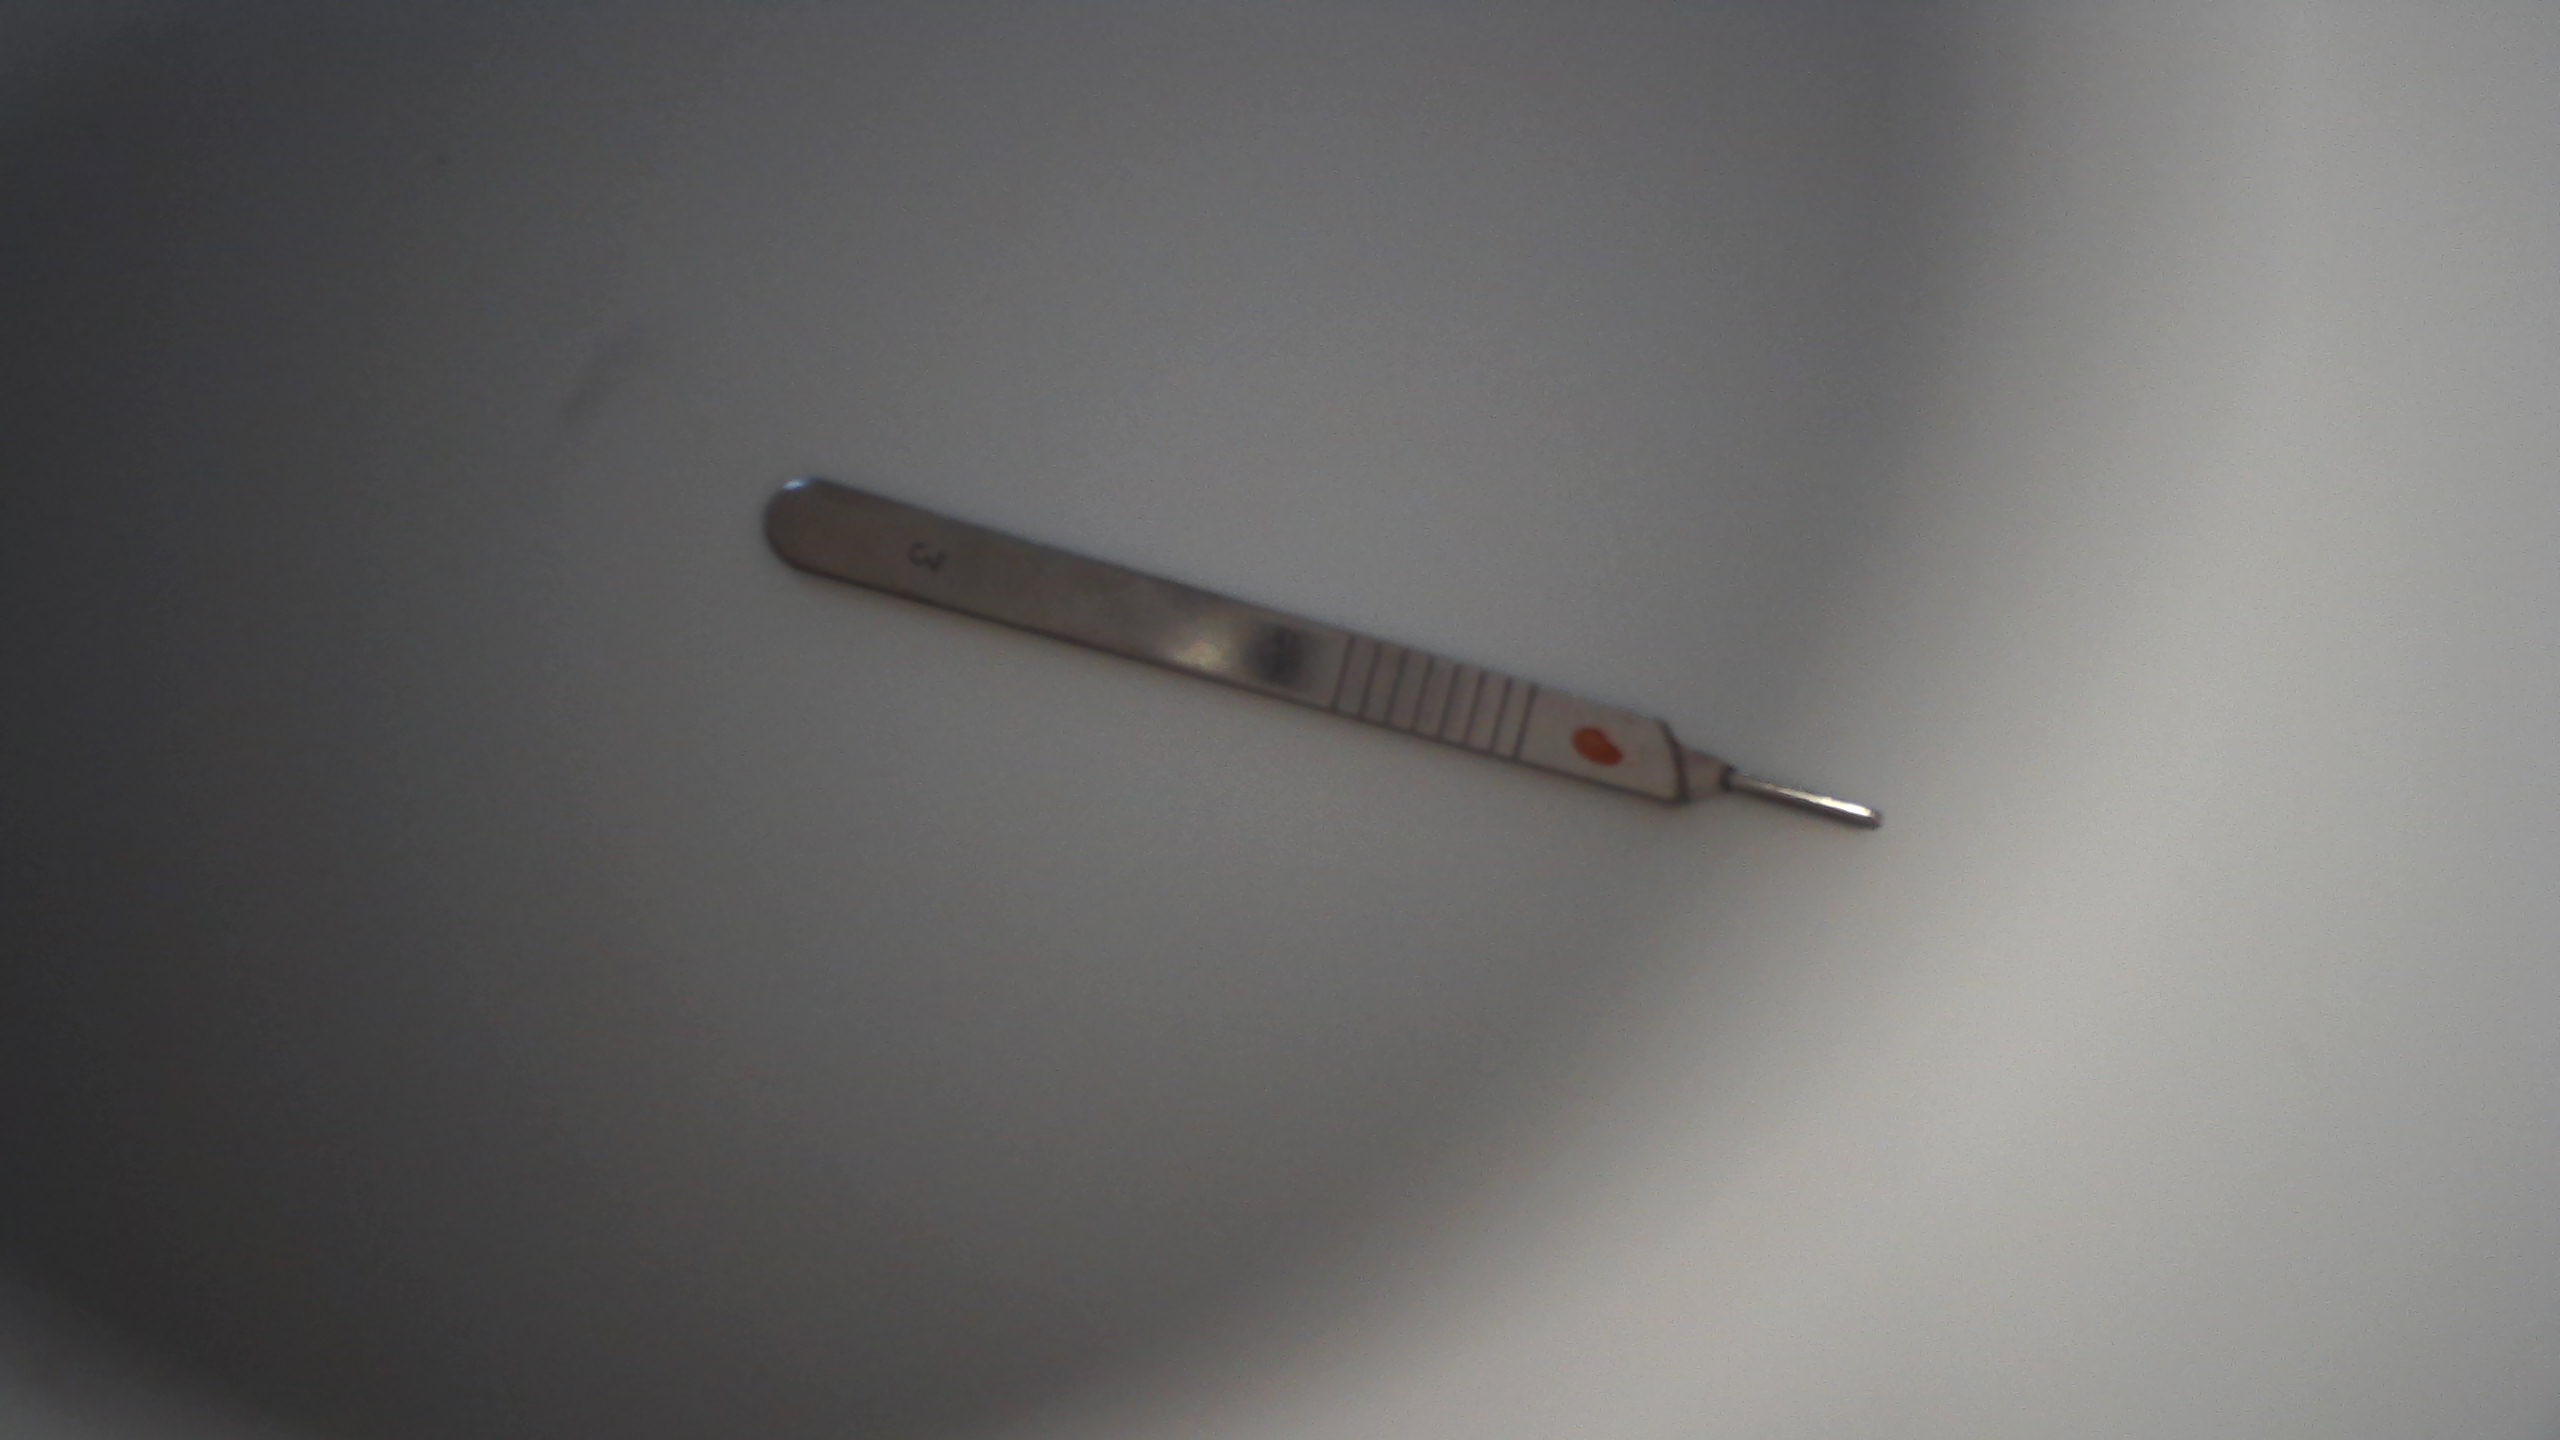Stain: (1567, 712, 1632, 782)
